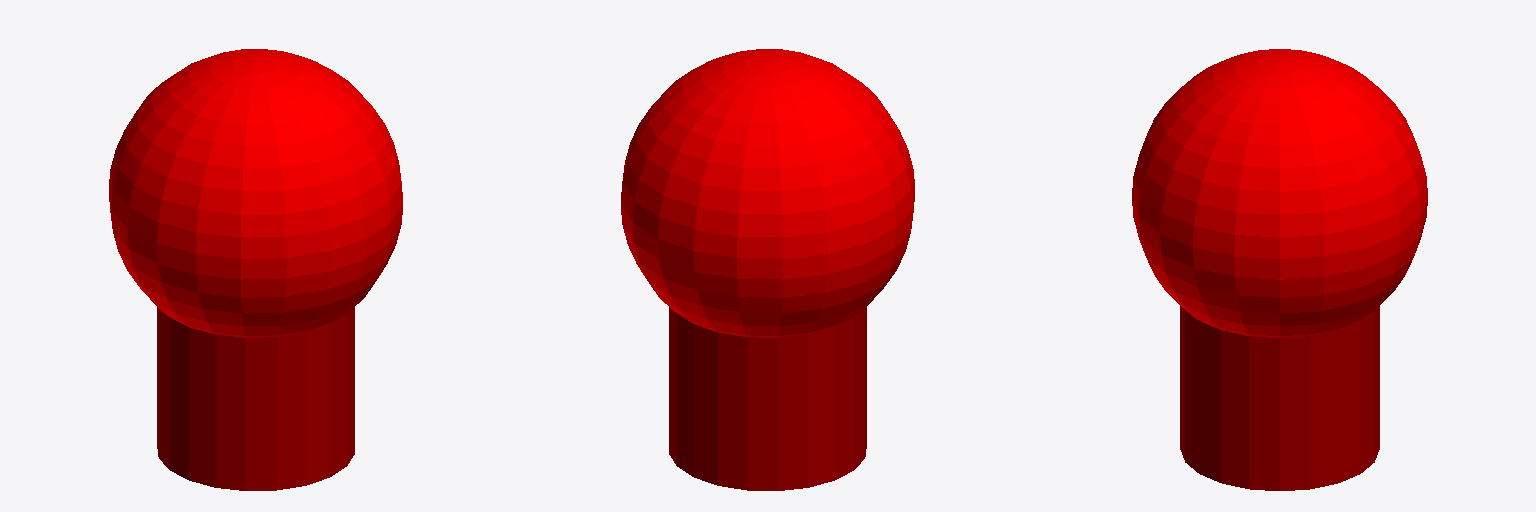
Rendered from artest01.obj.
3 renders of one model, left to right at view 1: azimuth 30°, elevation 25°; view 2: azimuth 150°, elevation 25°; view 3: azimuth 270°, elevation 25°, orthographic.
Size of the model in its own units: 2 by 2.88 by 2.